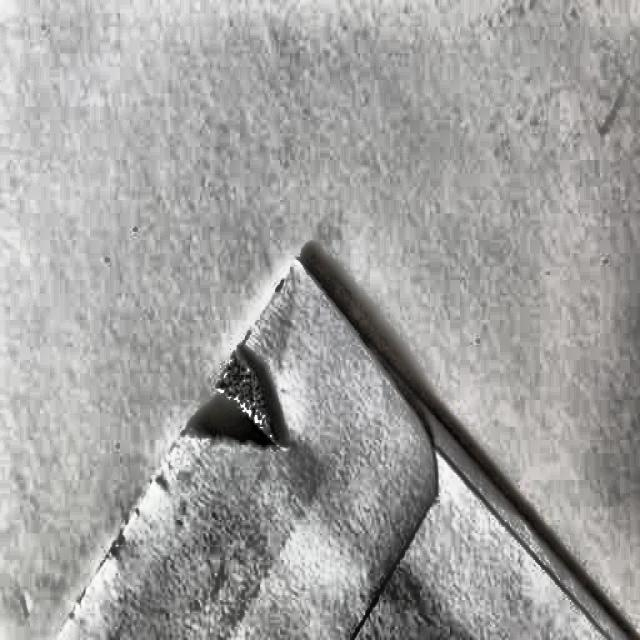paper: (93, 255, 602, 640)
